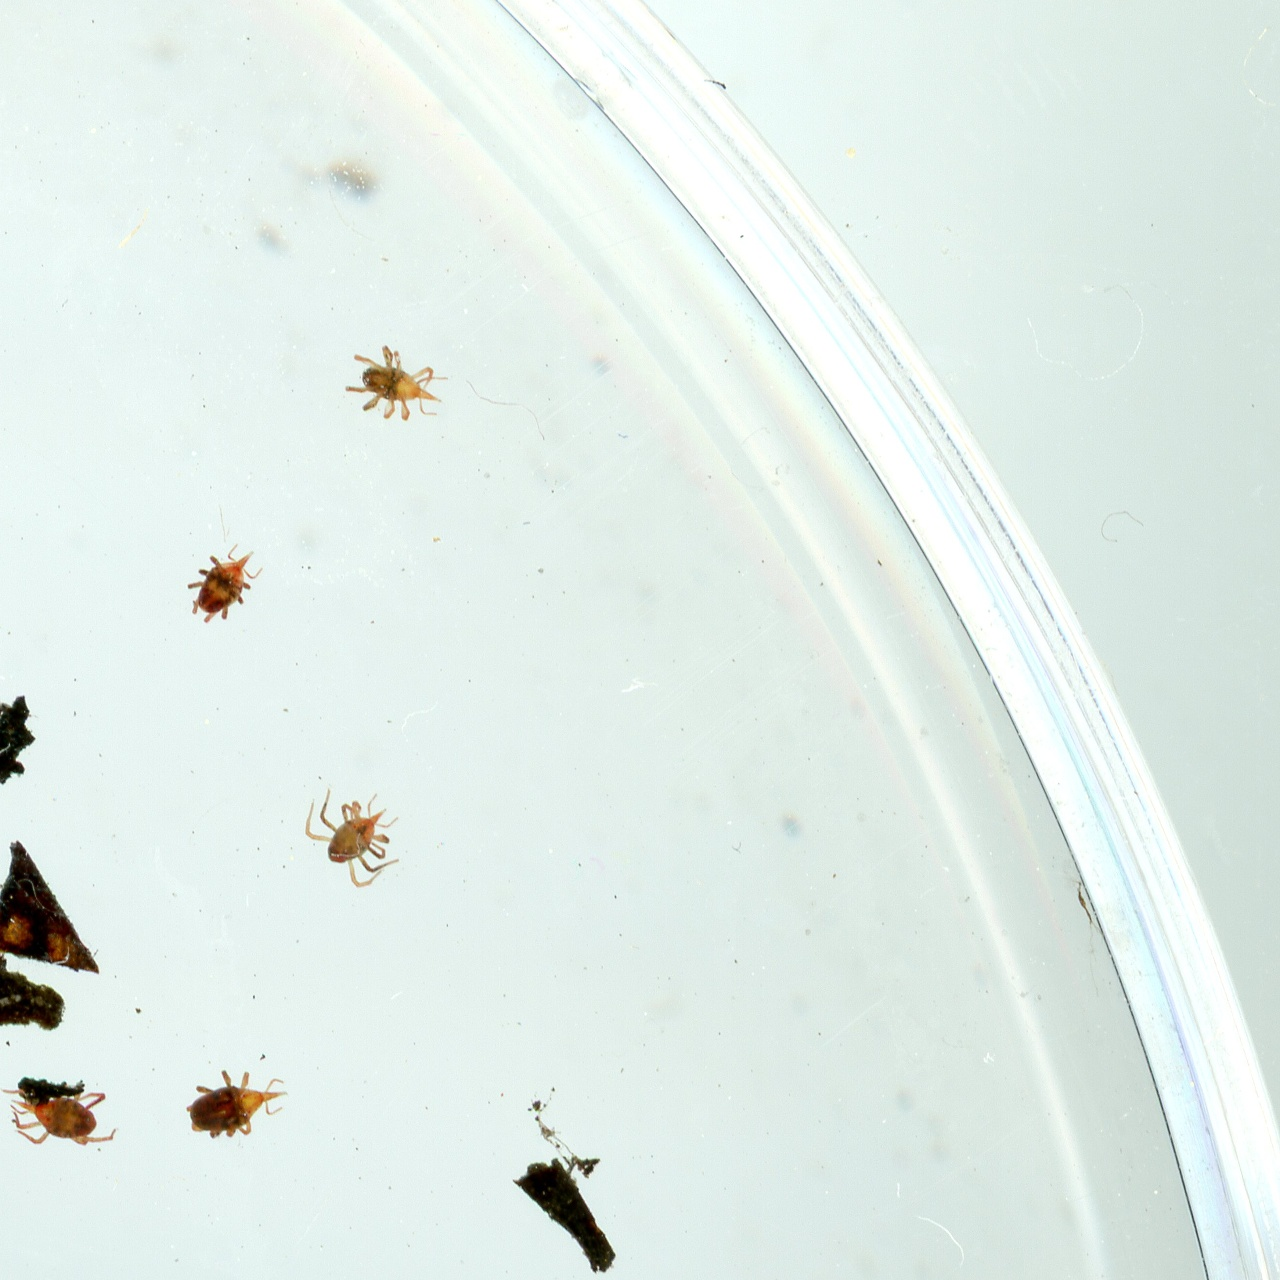arthropod: (298, 780, 406, 894), (0, 1073, 118, 1149), (345, 341, 448, 425), (174, 1073, 293, 1140), (189, 540, 264, 623), (347, 332, 387, 409)
